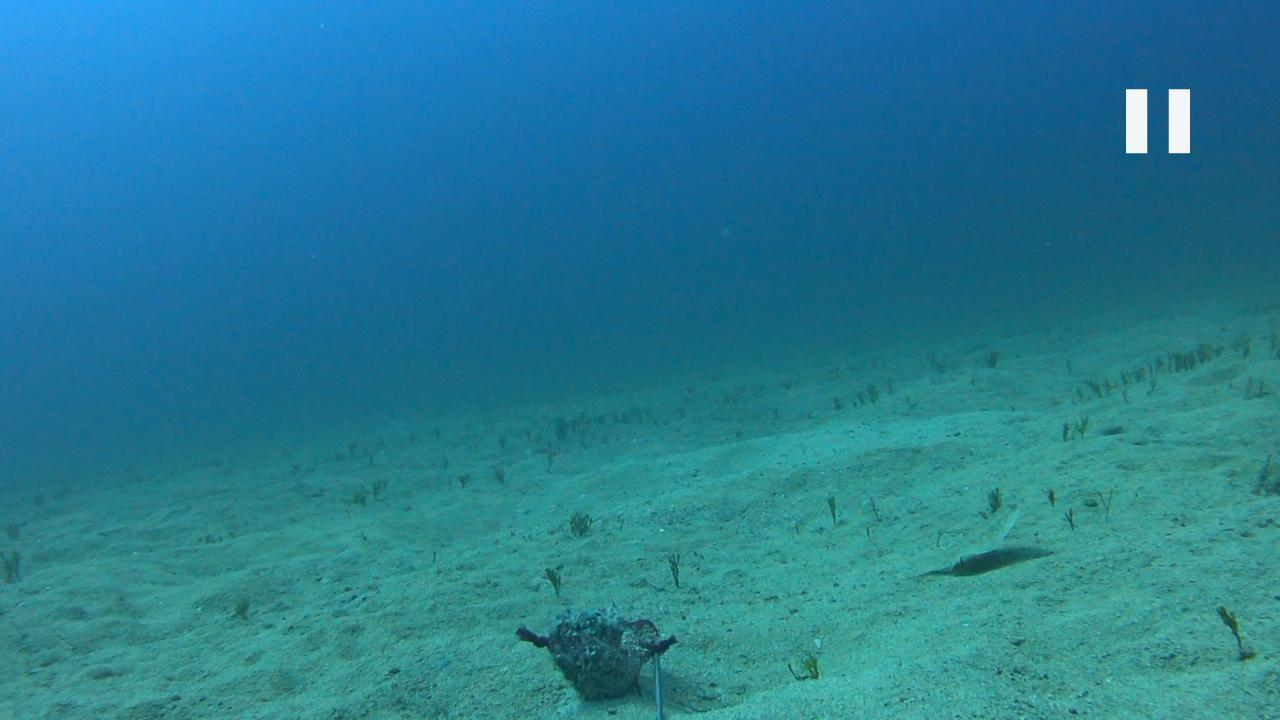bothus: (898, 502, 1034, 586)
